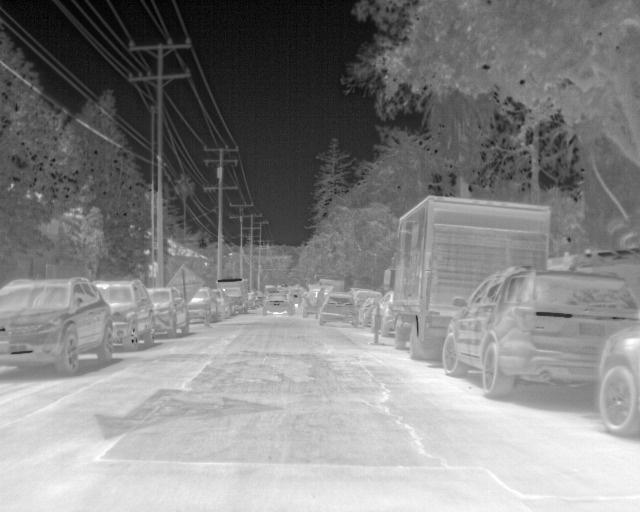bicycle: (443, 269, 634, 400), (0, 275, 115, 376), (594, 324, 638, 439), (93, 280, 155, 351), (147, 286, 191, 337), (316, 294, 359, 325), (378, 287, 397, 337), (301, 288, 332, 317), (190, 287, 214, 323), (260, 289, 290, 316), (352, 288, 381, 303)
